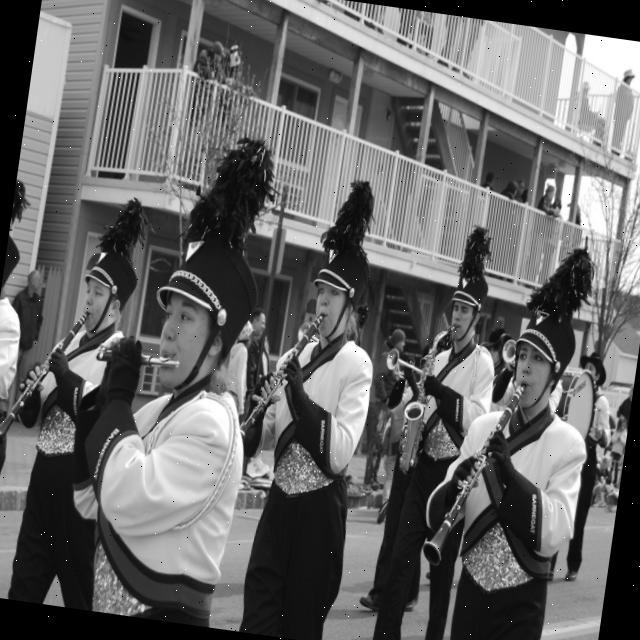clarinet: (419, 373, 529, 576), (0, 298, 89, 456), (238, 303, 327, 458)
